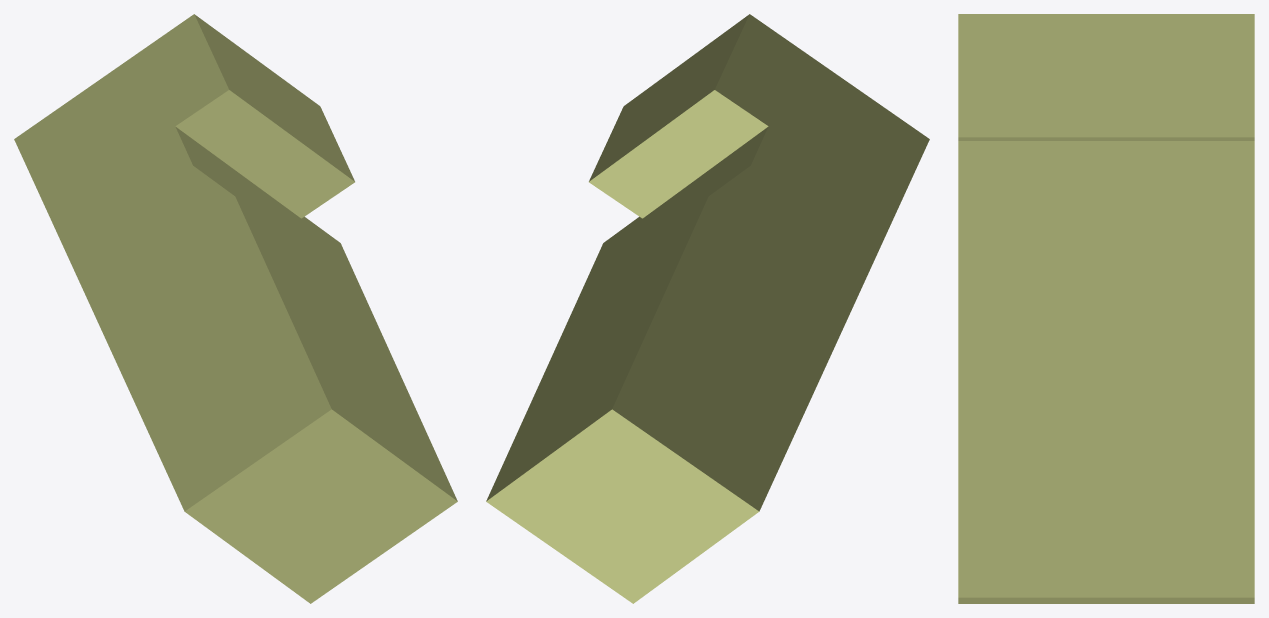
The picture shows the model from 3 angles, left to right: view 1: azimuth 30°, elevation 25°; view 2: azimuth 150°, elevation 25°; view 3: azimuth 270°, elevation 25°; orthographic projection. The views are drawn at different scales.
Visible parts, largest first — view 1: 0_1_3_2_1_2_1_2_1; view 2: 0_1_3_2_1_2_1_2_1; view 3: 0_1_3_2_1_2_1_2_1.
Part boxes in pixels (x1,y1,x2,y2): 0_1_3_2_1_2_1_2_1: (14,14,457,603); 0_1_3_2_1_2_1_2_1: (486,14,929,603); 0_1_3_2_1_2_1_2_1: (958,14,1254,603).
Size of the model in its own units: 13.09 by 19.49 by 9.
